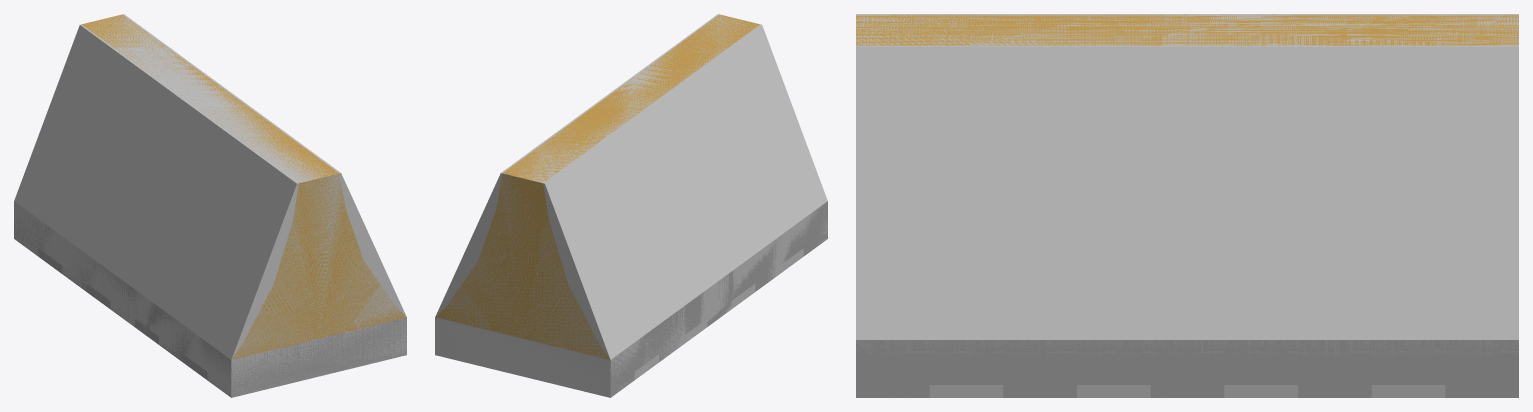
File: SM_PavementBarriers_06.fbx
3 views of the same model, side by side, from view 1: azimuth 30°, elevation 25°; view 2: azimuth 150°, elevation 25°; view 3: azimuth 270°, elevation 25° (orthographic). The views are drawn at different scales.
Visible parts, largest first — view 1: SM_PavementBarriers_06_ConvexHulls, SM_PavementBarriers_06; view 2: SM_PavementBarriers_06_ConvexHulls, SM_PavementBarriers_06; view 3: SM_PavementBarriers_06_ConvexHulls, SM_PavementBarriers_06.
Part boxes in pixels (x1,y1,x2,y2): SM_PavementBarriers_06_ConvexHulls: (14,14,406,396); SM_PavementBarriers_06: (14,14,406,397); SM_PavementBarriers_06_ConvexHulls: (435,14,827,397); SM_PavementBarriers_06: (435,14,827,397); SM_PavementBarriers_06_ConvexHulls: (856,14,1518,397); SM_PavementBarriers_06: (856,15,1518,397).
Bounding box in the file's own units: 66.81 × 143 × 72.08.
